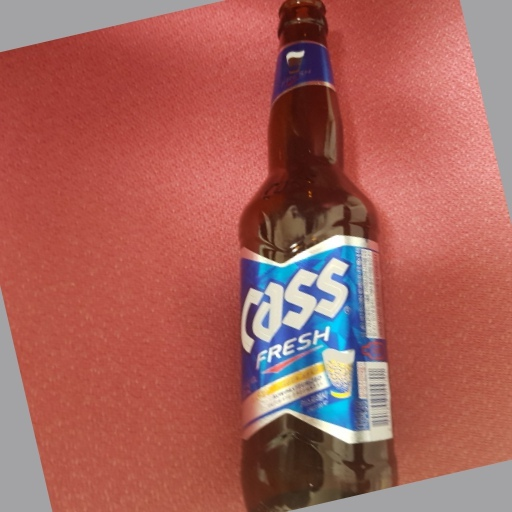Glass_1: (238, 3, 402, 512)
